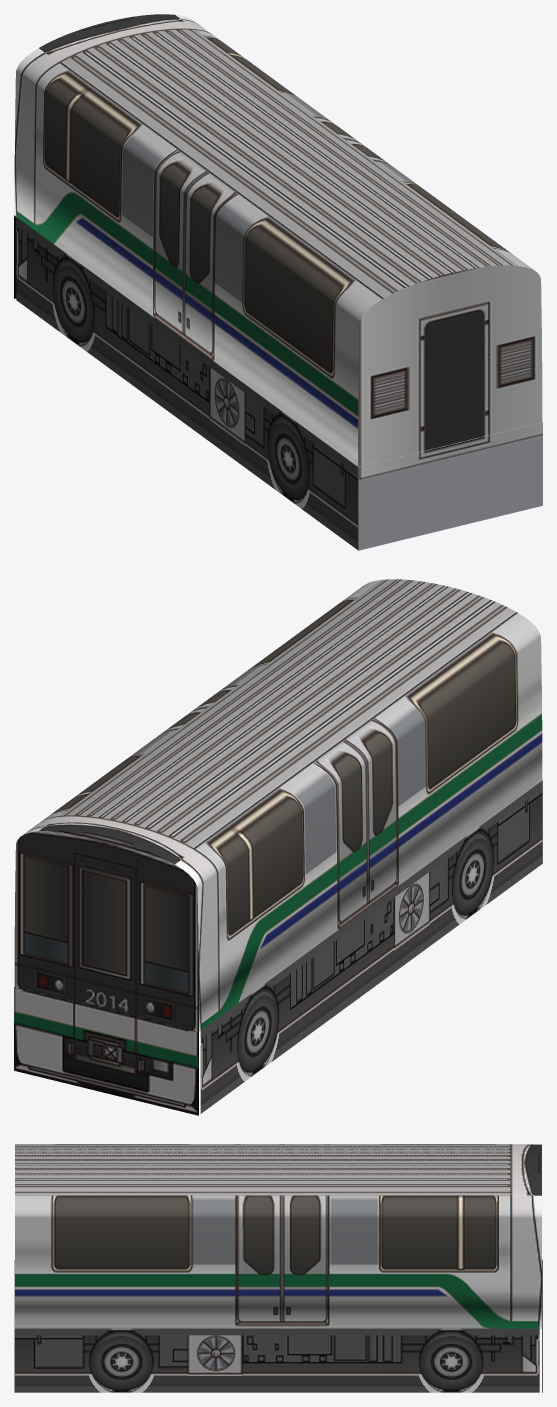
The model's file is car6.glb.
3 renders of one model, top to bottom at view 1: azimuth 30°, elevation 25°; view 2: azimuth 150°, elevation 25°; view 3: azimuth 270°, elevation 25°, orthographic. The views are drawn at different scales.
Visible parts, largest first — view 1: kobesinkotu-portliner2000-car6; view 2: kobesinkotu-portliner2000-car6; view 3: kobesinkotu-portliner2000-car6.
Boxes of the visible parts, x1=… form: kobesinkotu-portliner2000-car6: x1=14, y1=14, x2=542, y2=550; kobesinkotu-portliner2000-car6: x1=14, y1=579, x2=542, y2=1115; kobesinkotu-portliner2000-car6: x1=14, y1=1144, x2=542, y2=1392.
Bounding box in the file's own units: 2.48 × 3.27 × 8.03.
Materials: 9 (8 with a texture image).
